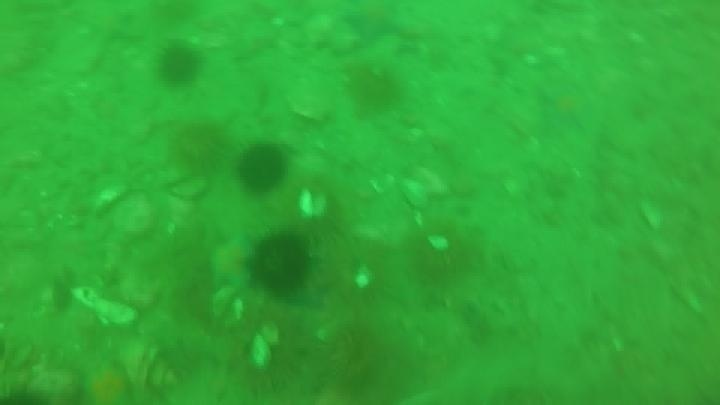echinus: (321, 322, 391, 398), (405, 217, 477, 287), (247, 232, 313, 297), (170, 121, 228, 175), (235, 143, 289, 196), (346, 64, 402, 115), (156, 42, 204, 88), (48, 280, 77, 315)
scallop: (285, 75, 337, 124)
starfish: (341, 3, 418, 45), (197, 239, 249, 299), (537, 83, 596, 134), (78, 360, 136, 405), (81, 8, 141, 47)
